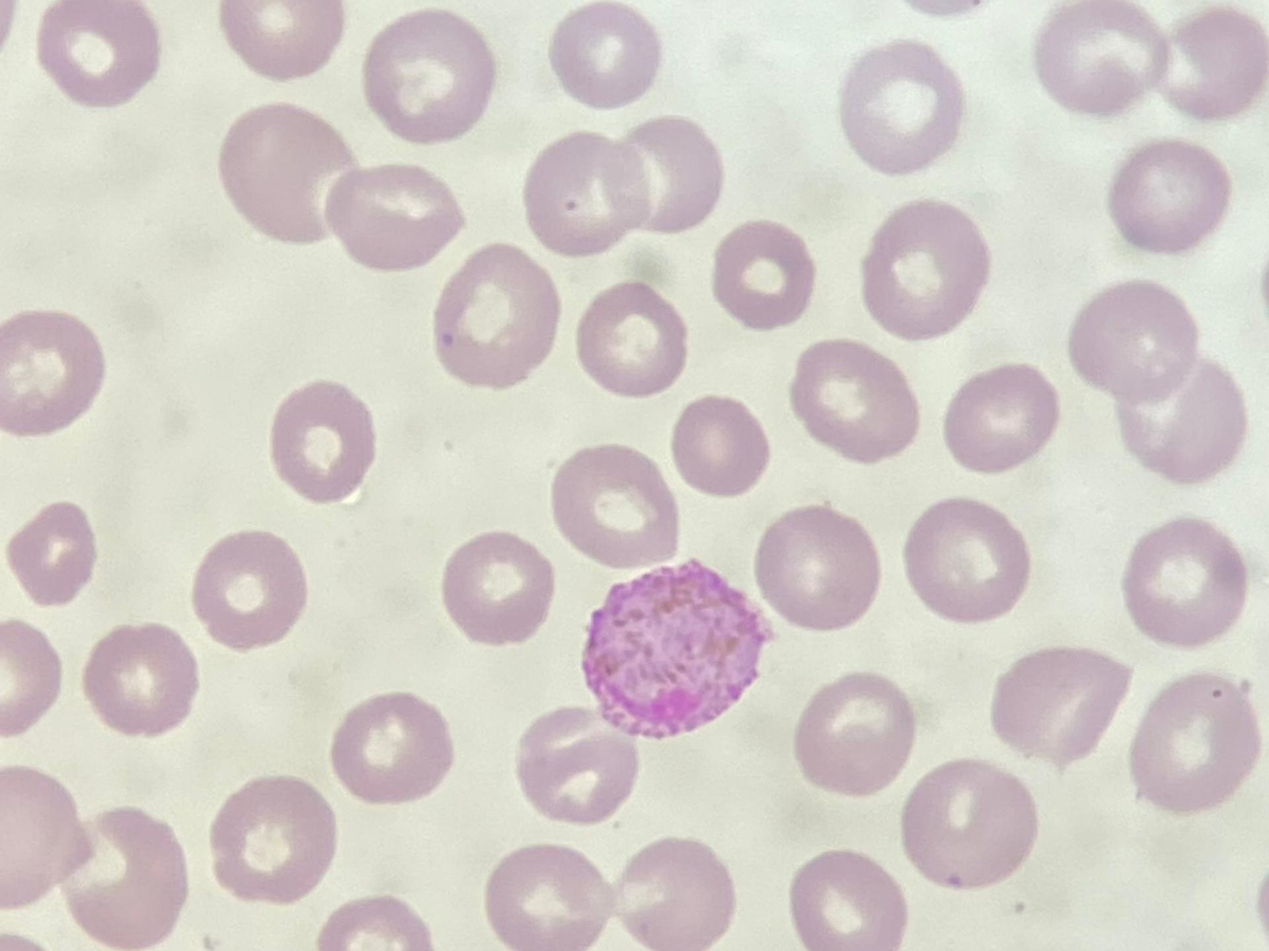Infected: (499, 212, 687, 390)
Uninfected: (9, 137, 139, 276), (917, 709, 1049, 845), (775, 808, 908, 938), (279, 612, 406, 748), (709, 564, 833, 702), (233, 63, 366, 190), (1081, 3, 1204, 140), (138, 184, 277, 305), (22, 466, 151, 595), (305, 777, 427, 909), (20, 303, 145, 431), (614, 694, 742, 819), (351, 488, 480, 612), (589, 381, 716, 505), (69, 548, 198, 669), (805, 678, 944, 790), (933, 48, 1059, 171), (237, 328, 363, 451), (389, 321, 512, 444), (354, 155, 477, 276), (106, 834, 233, 948), (629, 126, 752, 242), (38, 697, 159, 812), (658, 0, 785, 107), (816, 147, 938, 257), (962, 301, 1076, 418), (535, 0, 652, 113), (892, 446, 1000, 568), (1163, 515, 1269, 638), (1071, 213, 1185, 326), (581, 553, 692, 669), (1108, 845, 1232, 946), (714, 305, 826, 416), (210, 480, 324, 588), (359, 0, 477, 101), (1182, 42, 1268, 180), (2, 831, 108, 942), (547, 720, 647, 835), (608, 842, 717, 946), (453, 621, 557, 730), (500, 452, 597, 552), (1171, 341, 1262, 447), (924, 870, 1046, 948), (1207, 214, 1269, 329)
